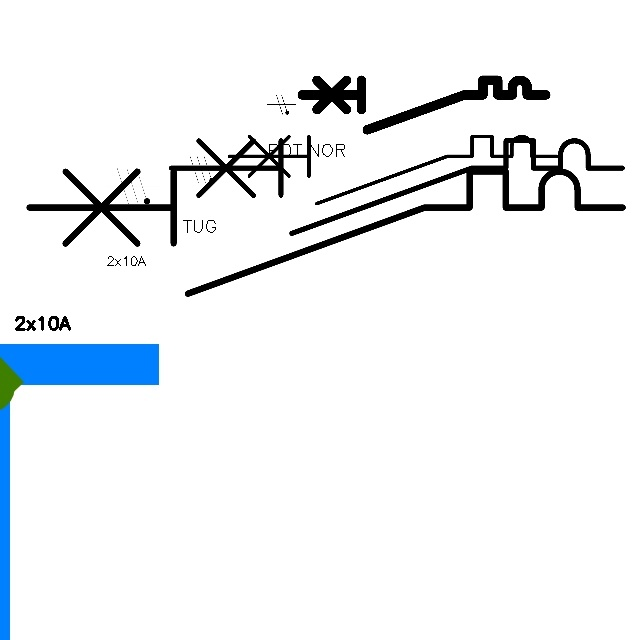interruptor_termomagnetico: (14, 156, 638, 309), (159, 129, 633, 245), (220, 128, 564, 212), (296, 74, 552, 136)
